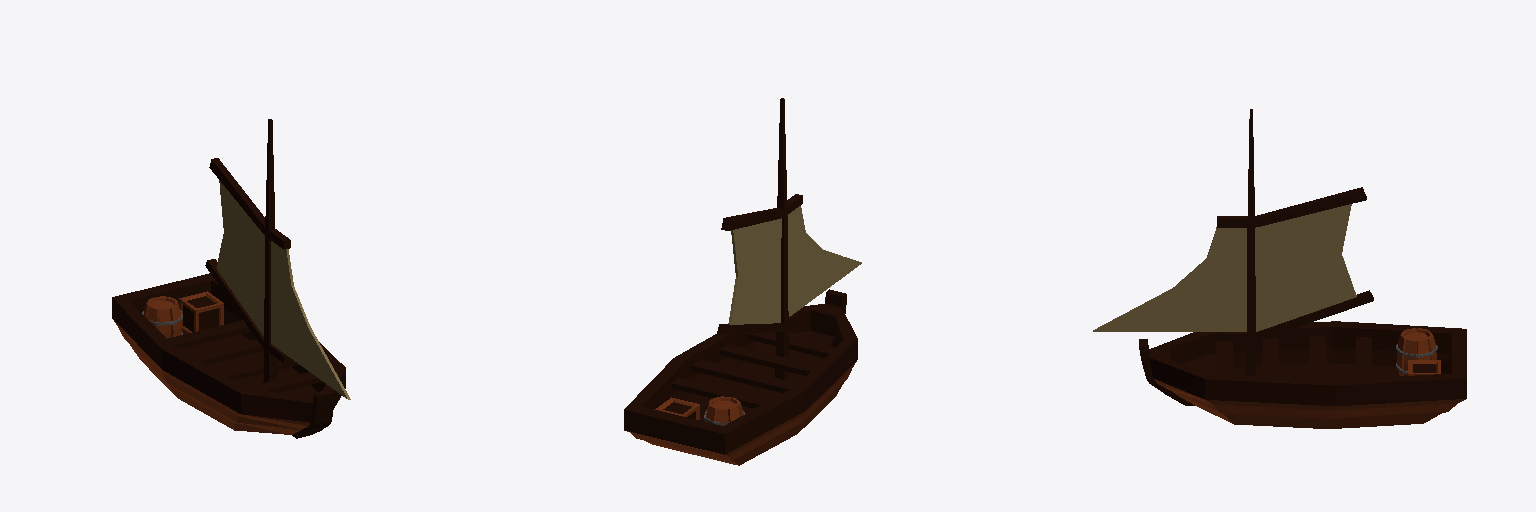
Rendered from Sailboat.obj.
The picture shows the model from 3 angles: view 1: azimuth 30°, elevation 25°; view 2: azimuth 150°, elevation 25°; view 3: azimuth 270°, elevation 25°; orthographic projection.
Parts seen in each view (by area): view 1: Boat_Cube; view 2: Boat_Cube; view 3: Boat_Cube.
Boxes of the visible parts, x1,y1,x2,y2 form: Boat_Cube: [112, 119, 350, 438]; Boat_Cube: [624, 98, 861, 465]; Boat_Cube: [1093, 109, 1466, 428].
Size of the model in its own units: 0.4032 by 0.8547 by 0.989.